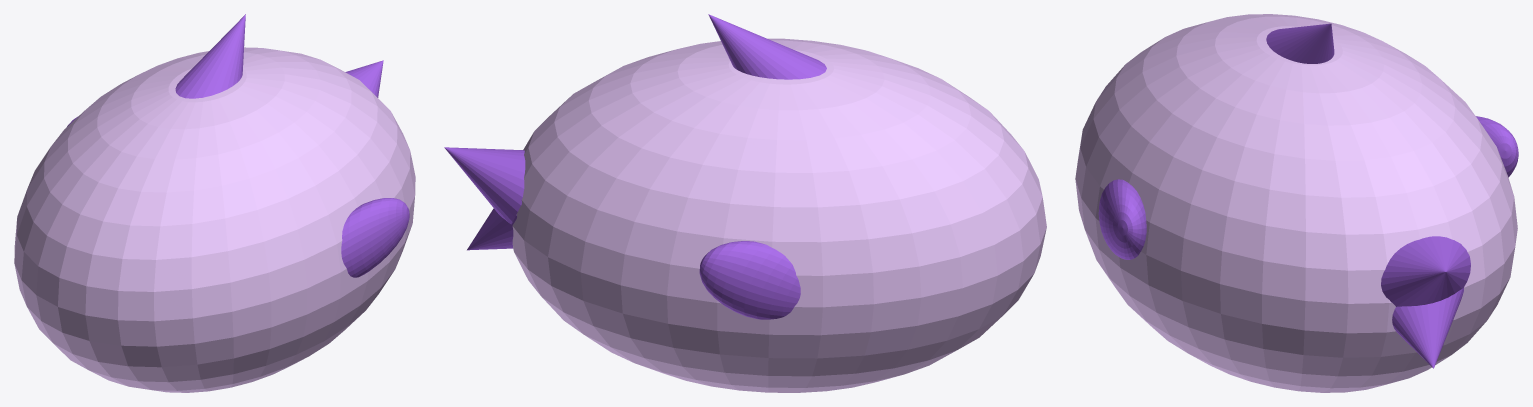
Rendered from fish3.glb.
The picture shows the model from 3 angles, left to right: view 1: azimuth 30°, elevation 25°; view 2: azimuth 150°, elevation 25°; view 3: azimuth 270°, elevation 25°; orthographic projection. The views are drawn at different scales.
Parts seen in each view (by area): view 1: fish3; view 2: fish3; view 3: fish3.
Part boxes in pixels (bbox=[...]): fish3: bbox=[14, 14, 415, 392]; fish3: bbox=[444, 14, 1046, 392]; fish3: bbox=[1075, 14, 1518, 392].
Bounding box in the file's own units: 0.1852 × 0.1312 × 0.1453.
